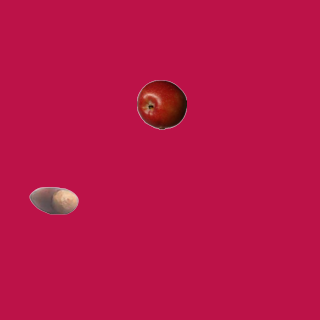Apple Braeburn: (136, 79, 186, 129)
Hazelnut: (28, 175, 78, 225)
